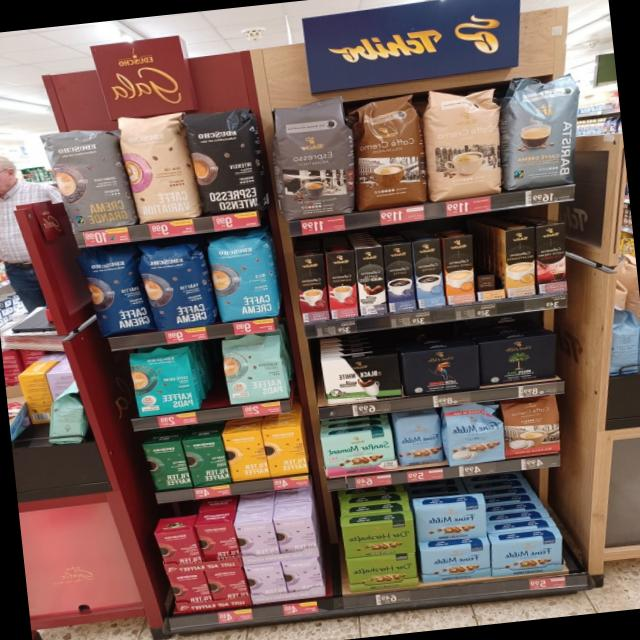BM Gemahlen: (476, 331, 562, 388)
BW Gemahlen: (319, 350, 403, 406)
Barista CC: (497, 70, 588, 191)
CC Mild: (418, 84, 508, 204)
CC Vollmundig: (499, 392, 561, 458)
CC Vollmundig 36 Pads: (347, 90, 429, 210)
Espresso Aromatisch: (266, 90, 358, 222)
FM 36 Pads: (440, 401, 504, 466)
FM Bohne: (392, 411, 444, 467)
FM Gemahlen: (488, 532, 568, 580), (412, 498, 492, 544), (416, 539, 494, 585)
Herzhatfe Mundig: (340, 517, 418, 559), (344, 552, 420, 594)
LG Gemahlen: (400, 342, 482, 397)
SM Gemahlen: (320, 426, 396, 478)
Simo CC Colombia: (535, 221, 567, 294)
Simo CCVollmundig bigpack: (440, 233, 478, 304)
Simo Decaff: (504, 226, 536, 297)
Simo Es Brazil: (324, 250, 360, 320)
Simo Es Caramel: (295, 254, 329, 323)
Simo Es Elegant: (353, 246, 388, 316)
Simo Es Kraft: (382, 242, 417, 312)
Simo Es Vanilla: (411, 238, 445, 308)
